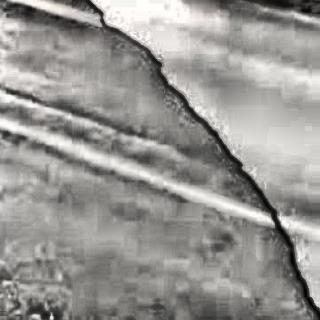crack: (202, 129, 295, 252), (103, 7, 204, 115), (285, 268, 320, 320)
